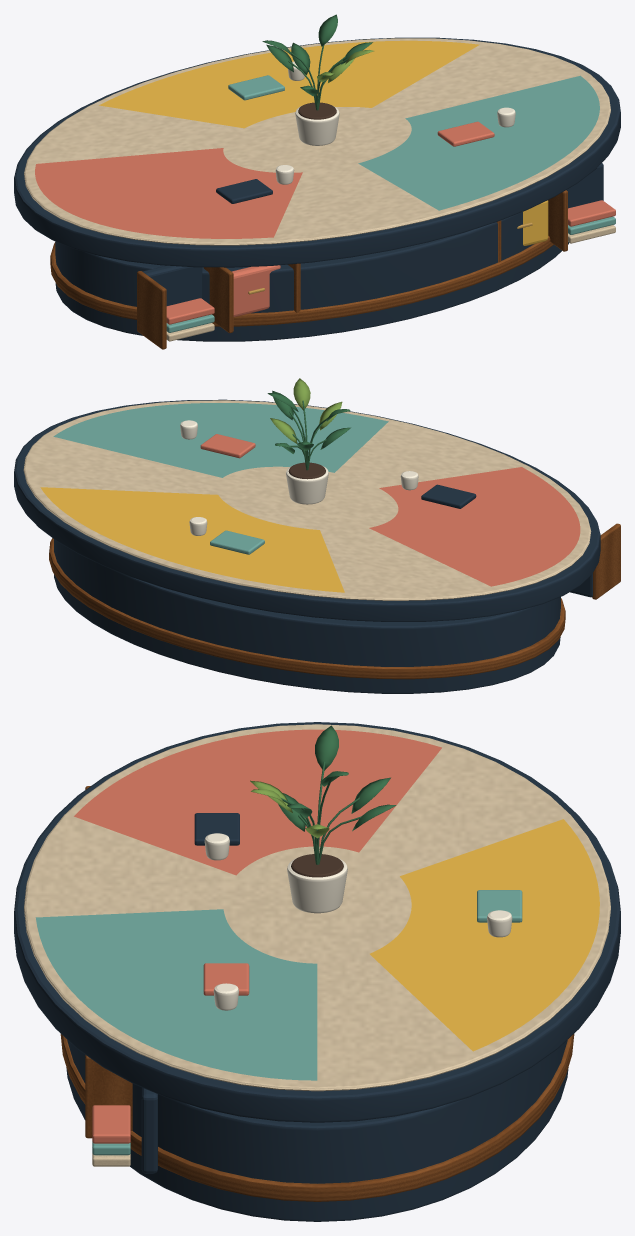
The model's file is shared-table.glb.
The picture shows the model from 3 angles, top to bottom: view 1: azimuth 30°, elevation 25°; view 2: azimuth 150°, elevation 25°; view 3: azimuth 270°, elevation 25°; orthographic projection. The views are drawn at different scales.
Parts seen in each view (by area): view 1: Shared table surface, Shared table plinth, Table inlay coral, Table inlay mint, Shared table edge, Table inlay yellow, Shared table lower shelf, Table cubby divider, Table drawer, Table cubby back, Table cubby divider.001, Shared table plant pot (+9 smaller); view 2: Shared table surface, Shared table plinth, Table inlay coral, Table inlay yellow, Shared table edge, Table inlay mint, Shared table lower shelf, Table cubby divider, Shared table plant pot, Community notebook, Community notebook.001, Community notebook.002 (+1 smaller); view 3: Shared table surface, Shared table plinth, Table inlay mint, Table inlay yellow, Table inlay coral, Shared table edge, Shared table lower shelf, Shared table plant pot, Table cubby divider.006, Table stored book.011, Table cubby back.006, Community notebook.001 (+4 smaller).
Boxes of the visible parts, x1,y1,x2,y2 form: Shared table surface: (24,38,610,245); Shared table plinth: (55,212,568,341); Table inlay coral: (35,148,302,238); Table inlay mint: (358,75,599,210); Shared table edge: (14,37,620,267); Table inlay yellow: (99,40,479,128); Shared table lower shelf: (50,236,553,326); Table cubby divider: (137,271,166,349); Table drawer: (232,265,280,316); Table cubby back: (142,265,202,305); Table cubby divider.001: (203,267,233,333); Shared table plant pot: (295,106,339,145); Shared table surface: (23,400,591,600); Shared table plinth: (54,539,560,693); Table inlay coral: (369,467,580,586); Table inlay yellow: (40,487,344,592); Shared table edge: (14,399,600,621); Table inlay mint: (53,403,388,477); Shared table lower shelf: (49,538,565,679); Table cubby divider: (592,523,620,599); Shared table plant pot: (286,466,328,504); Community notebook: (421,484,476,508); Community notebook.001: (200,434,255,458); Community notebook.002: (210,530,264,554); Shared table surface: (24,724,610,1091); Shared table plinth: (66,1040,568,1221); Table inlay mint: (35,909,317,1080); Table inlay yellow: (370,819,599,1051); Table inlay coral: (74,729,441,875); Shared table edge: (14,722,620,1122); Shared table lower shelf: (60,1034,574,1201); Shared table plant pot: (287,858,347,913); Table cubby divider.006: (85,1055,132,1138); Table stored book.011: (92,1105,130,1143); Table cubby back.006: (141,1087,157,1173); Community notebook.001: (203,963,249,995).
Size of the model in its own units: 4.9 by 1.85 by 3.33.
Materials: 11 (2 with a texture image).
